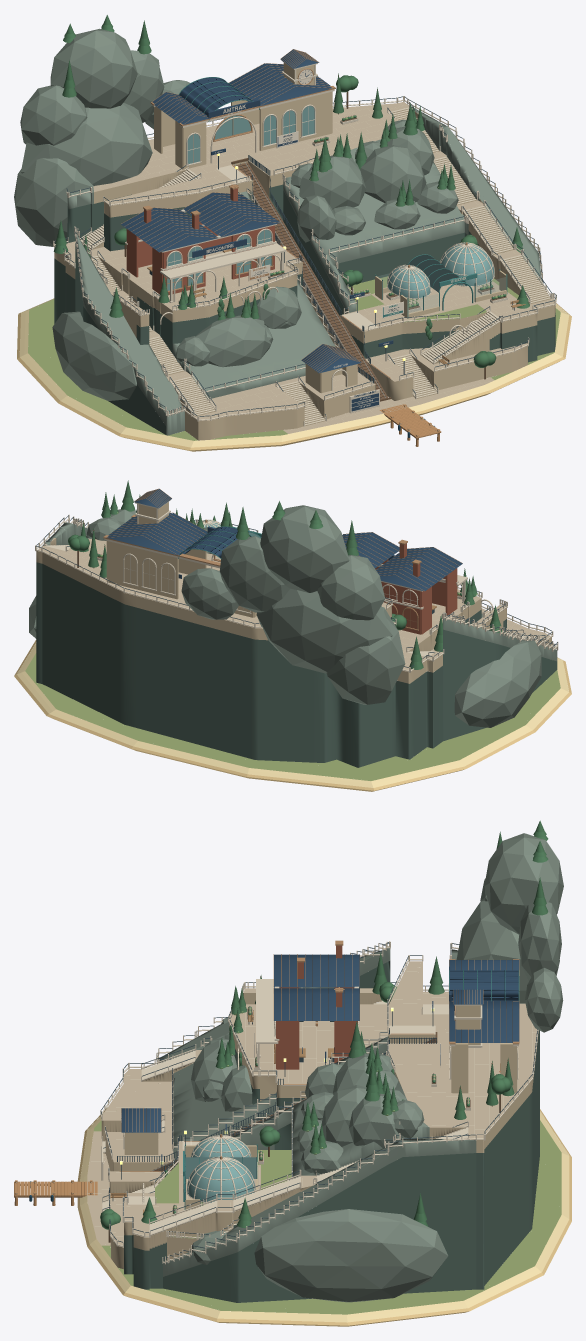
File: experience.glb
3 views of the same model, one above another, from view 1: azimuth 30°, elevation 25°; view 2: azimuth 150°, elevation 25°; view 3: azimuth 270°, elevation 25° (orthographic). The views are drawn at different scales.
Parts seen in each view (by area): view 1: static_junction_sandstone, static_junction_paving, static_junction_rock, static_junction_rockDark, district_amtrak_junction_stone, static_junction_stone, district_amtrak_junction_leaf, occluder_summit_rock_ridge-root_junction_rock, static_junction_lawn, static_sand, occluder_summit_rock_main-peak_junction_rock, occluder_junction_workshop_roof_junction_navy (+40 smaller); view 2: static_junction_rockDark, static_junction_lawn, occluder_summit_rock_ridge-root_junction_rock, occluder_summit_rock_main-peak_junction_rock, static_sand, occluder_summit_rock_west-coast_junction_rock, static_junction_sandstone, occluder_summit_rock_west-ledge_junction_rock, static_junction_paving, occluder_junction_terminal_walls_junction_sandstone, occluder_summit_rock_peak-right_junction_rock, occluder_junction_workshop_roof_junction_navy (+16 smaller); view 3: static_junction_rockDark, static_junction_paving, occluder_summit_rock_east-coast_junction_rock, static_junction_rock, static_junction_lawn, static_junction_sandstone, district_amtrak_junction_stone, static_sand, district_amtrak_junction_leaf, occluder_junction_workshop_roof_junction_navy, occluder_summit_rock_main-peak_junction_rock, static_junction_stone (+26 smaller).
Part boxes in pixels (bbox=[...]): static_junction_sandstone: bbox=[54, 108, 555, 440]; static_junction_paving: bbox=[66, 101, 554, 433]; static_junction_rock: bbox=[67, 106, 541, 435]; static_junction_rockDark: bbox=[54, 184, 555, 434]; district_amtrak_junction_stone: bbox=[53, 96, 556, 426]; static_junction_stone: bbox=[67, 105, 553, 425]; district_amtrak_junction_leaf: bbox=[53, 15, 529, 339]; occluder_summit_rock_ridge-root_junction_rock: bbox=[21, 102, 152, 185]; static_junction_lawn: bbox=[28, 276, 560, 440]; static_sand: bbox=[19, 298, 568, 447]; occluder_summit_rock_main-peak_junction_rock: bbox=[50, 28, 137, 108]; occluder_junction_workshop_roof_junction_navy: bbox=[121, 192, 280, 252]; static_junction_rockDark: bbox=[36, 562, 557, 767]; static_junction_lawn: bbox=[25, 653, 560, 780]; occluder_summit_rock_ridge-root_junction_rock: bbox=[256, 588, 392, 673]; occluder_summit_rock_main-peak_junction_rock: bbox=[260, 505, 349, 592]; static_sand: bbox=[17, 643, 568, 787]; occluder_summit_rock_west-coast_junction_rock: bbox=[454, 640, 541, 727]; static_junction_sandstone: bbox=[36, 538, 551, 683]; occluder_summit_rock_west-ledge_junction_rock: bbox=[326, 607, 405, 704]; static_junction_paving: bbox=[37, 538, 550, 671]; occluder_junction_terminal_walls_junction_sandstone: bbox=[106, 541, 256, 617]; occluder_summit_rock_peak-right_junction_rock: bbox=[219, 536, 289, 612]; occluder_junction_workshop_roof_junction_navy: bbox=[342, 532, 462, 591]; static_junction_rockDark: bbox=[124, 961, 539, 1302]; static_junction_paving: bbox=[87, 961, 537, 1247]; occluder_summit_rock_east-coast_junction_rock: bbox=[254, 1209, 448, 1302]; static_junction_rock: bbox=[158, 948, 476, 1276]; static_junction_lawn: bbox=[94, 1120, 561, 1314]; static_junction_sandstone: bbox=[101, 993, 538, 1269]; district_amtrak_junction_stone: bbox=[100, 941, 538, 1264]; static_sand: bbox=[80, 1111, 569, 1322]; district_amtrak_junction_leaf: bbox=[141, 820, 548, 1227]; occluder_junction_workshop_roof_junction_navy: bbox=[274, 954, 359, 1020]; occluder_summit_rock_main-peak_junction_rock: bbox=[484, 833, 563, 934]; static_junction_stone: bbox=[87, 967, 535, 1236].
Bounding box in the file's own units: 78 × 43.18 × 70.
